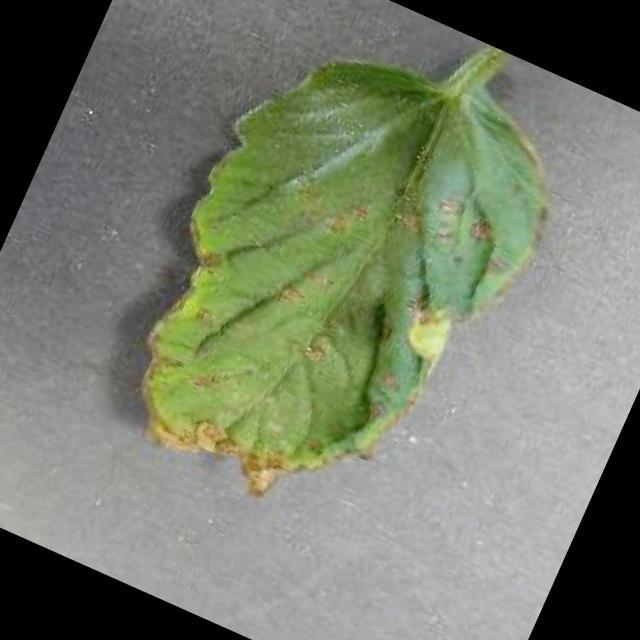Tomato bacterial spot leaf: (84, 0, 602, 578)
